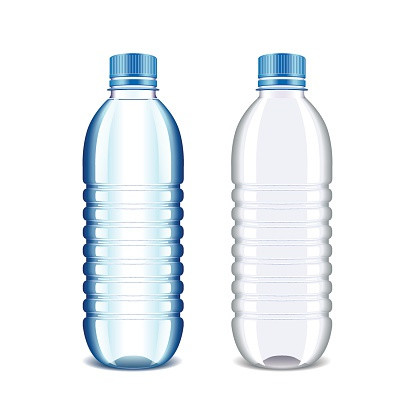emptybottle: (230, 54, 333, 370), (83, 54, 183, 369)
